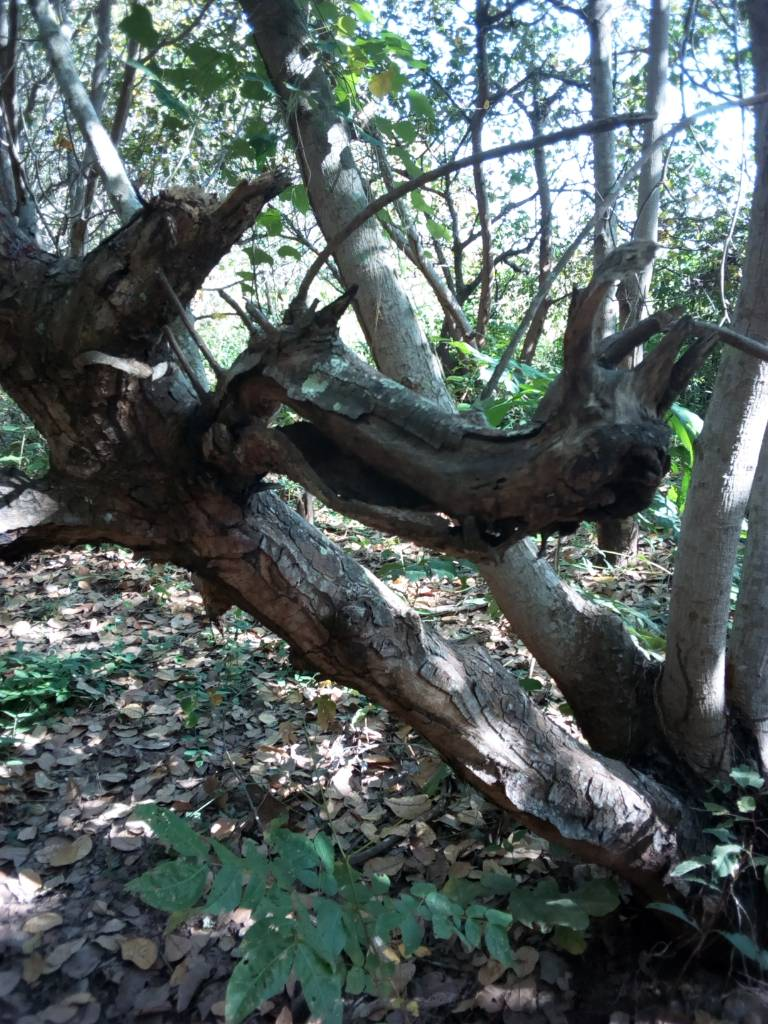Termites: (250, 302, 668, 538), (47, 274, 222, 550)
